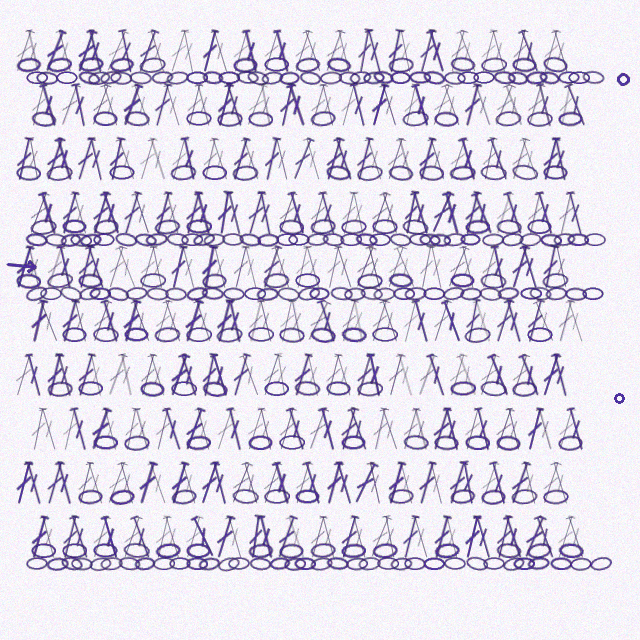chain: (511, 163, 539, 182), (46, 271, 74, 290), (542, 55, 569, 74), (526, 541, 553, 560), (356, 164, 384, 182), (46, 56, 73, 74), (139, 56, 166, 74), (46, 164, 73, 182), (325, 164, 352, 182), (30, 218, 57, 236), (154, 218, 181, 236), (402, 218, 429, 236), (216, 326, 243, 344), (464, 326, 491, 344), (24, 284, 49, 303), (109, 56, 135, 74), (295, 56, 321, 74), (326, 56, 352, 74), (31, 110, 57, 128), (388, 164, 414, 182), (93, 218, 119, 236), (310, 326, 336, 344), (202, 380, 228, 398), (109, 488, 135, 506), (171, 488, 197, 506), (402, 110, 429, 127), (495, 110, 522, 127), (170, 164, 197, 181), (480, 164, 507, 181), (263, 272, 290, 289), (542, 272, 569, 289), (154, 326, 181, 343), (294, 380, 321, 397), (480, 380, 507, 397), (232, 488, 259, 505), (511, 488, 538, 505), (123, 542, 150, 559), (59, 284, 83, 303), (78, 56, 104, 73), (450, 56, 476, 73), (124, 110, 150, 127), (310, 110, 336, 127), (310, 218, 336, 235), (388, 272, 414, 289), (341, 326, 367, 343), (403, 434, 429, 451), (388, 488, 414, 505), (450, 488, 476, 505), (155, 542, 181, 559), (310, 542, 336, 559), (372, 542, 398, 559), (434, 542, 460, 559), (496, 542, 522, 559), (558, 542, 584, 559), (77, 69, 101, 87), (246, 69, 270, 87), (232, 165, 259, 181), (449, 165, 476, 181), (480, 273, 507, 289), (106, 285, 130, 303), (217, 555, 241, 573), (502, 555, 526, 573), (16, 57, 42, 73), (388, 57, 414, 73), (481, 57, 507, 73), (217, 111, 243, 127), (527, 111, 553, 127), (341, 219, 367, 235), (496, 219, 522, 235), (357, 273, 383, 289), (279, 327, 305, 343), (47, 381, 73, 397), (357, 381, 383, 397), (124, 435, 150, 451), (543, 489, 569, 505), (248, 543, 274, 559), (99, 69, 123, 86), (422, 69, 446, 86), (114, 231, 138, 248), (192, 231, 216, 248), (78, 285, 102, 302), (185, 285, 209, 302), (297, 285, 321, 302), (442, 285, 466, 302), (60, 555, 84, 572), (465, 555, 489, 572), (589, 555, 613, 572), (233, 57, 258, 73), (512, 57, 537, 73), (248, 111, 273, 127), (434, 111, 459, 127), (558, 111, 583, 127), (16, 165, 41, 181), (419, 165, 444, 181), (279, 219, 304, 235), (465, 219, 490, 235), (16, 273, 41, 289), (78, 273, 103, 289), (202, 273, 227, 289), (140, 381, 165, 397), (512, 381, 537, 397), (186, 435, 211, 451), (434, 435, 459, 451), (496, 435, 521, 451), (558, 435, 583, 451), (78, 489, 103, 505), (481, 489, 506, 505), (279, 543, 304, 559), (341, 543, 366, 559), (372, 69, 395, 86), (186, 111, 212, 126), (109, 165, 135, 180), (186, 219, 212, 234), (372, 219, 398, 234), (140, 273, 166, 288), (93, 327, 119, 342), (186, 327, 212, 342), (248, 327, 274, 342), (372, 327, 398, 342), (527, 327, 553, 342), (171, 381, 197, 396), (450, 381, 476, 396), (279, 435, 305, 450), (264, 489, 290, 504), (87, 70, 111, 86), (238, 232, 262, 248), (264, 57, 289, 72), (93, 111, 118, 126), (202, 165, 227, 180), (543, 165, 568, 180), (62, 219, 87, 234), (527, 219, 552, 234), (295, 273, 320, 288), (450, 273, 475, 288), (62, 327, 87, 342), (124, 327, 149, 342), (78, 381, 103, 396), (264, 381, 289, 396), (326, 381, 351, 396), (93, 435, 118, 450), (248, 435, 273, 450), (341, 435, 366, 450), (465, 435, 490, 450), (295, 489, 320, 504), (31, 543, 56, 558), (62, 543, 87, 558), (93, 543, 118, 558), (186, 543, 211, 558), (166, 70, 189, 86), (261, 70, 284, 86), (299, 70, 322, 86), (538, 70, 561, 86), (79, 232, 102, 248), (134, 232, 157, 248), (203, 232, 226, 248), (389, 232, 412, 248), (277, 286, 300, 302), (479, 286, 502, 302), (89, 556, 112, 572), (198, 556, 221, 572), (310, 556, 333, 572), (507, 70, 529, 86), (60, 232, 82, 248), (151, 70, 174, 85), (236, 70, 259, 85), (349, 70, 372, 85), (493, 70, 516, 85), (525, 70, 548, 85), (582, 70, 605, 85), (25, 232, 48, 247), (145, 232, 168, 247), (166, 232, 189, 247), (306, 232, 329, 247), (322, 232, 345, 247), (355, 232, 378, 247), (443, 232, 466, 247), (501, 232, 524, 247), (519, 232, 542, 247), (553, 232, 576, 247), (125, 286, 148, 301), (201, 286, 224, 301), (330, 286, 353, 301), (360, 286, 383, 301), (404, 286, 427, 301), (497, 286, 520, 301), (529, 286, 552, 301), (545, 286, 568, 301), (100, 556, 123, 571), (118, 556, 141, 571), (326, 556, 349, 571), (358, 556, 381, 571), (527, 556, 550, 571), (202, 70, 224, 85), (134, 556, 156, 571), (269, 556, 291, 571), (129, 71, 152, 85), (338, 71, 361, 85), (146, 287, 169, 301), (256, 287, 279, 301), (373, 287, 396, 301), (46, 557, 69, 571), (249, 557, 272, 571), (390, 557, 413, 571), (36, 71, 58, 85), (110, 71, 132, 85), (320, 71, 342, 85), (363, 71, 385, 85), (444, 71, 466, 85), (45, 233, 67, 247), (70, 233, 92, 247), (257, 233, 279, 247), (419, 233, 441, 247), (429, 233, 451, 247), (482, 233, 504, 247), (540, 233, 562, 247), (165, 287, 187, 301), (223, 287, 245, 301), (344, 287, 366, 301), (460, 287, 482, 301), (565, 287, 587, 301), (71, 557, 93, 571), (284, 557, 306, 571), (346, 557, 368, 571), (570, 557, 592, 571), (279, 71, 300, 85), (26, 71, 48, 84), (56, 71, 78, 84), (186, 71, 208, 84), (218, 71, 240, 84), (409, 71, 431, 84), (457, 71, 479, 84), (473, 71, 495, 84), (558, 71, 580, 84), (568, 71, 590, 84), (93, 233, 115, 246), (181, 233, 203, 246), (222, 233, 244, 246), (276, 233, 298, 246), (288, 233, 310, 246), (340, 233, 362, 246), (369, 233, 391, 246), (409, 233, 431, 246), (567, 233, 589, 246), (584, 233, 606, 246), (40, 287, 62, 300), (89, 287, 111, 300), (244, 287, 266, 300), (393, 287, 415, 300), (423, 287, 445, 300), (520, 287, 542, 300), (582, 287, 604, 300), (26, 557, 48, 570), (153, 557, 175, 570), (169, 557, 191, 570), (186, 557, 208, 570), (228, 557, 250, 570), (294, 557, 316, 570), (377, 557, 399, 570), (404, 557, 426, 570), (423, 557, 445, 570), (444, 557, 466, 570), (483, 557, 505, 570), (513, 557, 535, 570), (550, 557, 572, 570), (390, 71, 411, 84), (460, 233, 481, 246), (309, 287, 330, 300)
double: (302, 298, 334, 344), (349, 460, 381, 506), (101, 28, 132, 74), (390, 244, 421, 290), (442, 244, 473, 290), (529, 298, 560, 344), (519, 514, 550, 560), (188, 514, 219, 559), (40, 28, 70, 74), (241, 82, 271, 128), (489, 82, 519, 128), (561, 82, 591, 128), (468, 190, 498, 236), (350, 244, 380, 290), (34, 298, 64, 344), (484, 352, 514, 398), (515, 352, 545, 398), (226, 460, 256, 506), (365, 514, 395, 560), (427, 190, 457, 235), (133, 28, 162, 74), (453, 28, 482, 74), (515, 28, 544, 74), (55, 82, 84, 128), (86, 82, 115, 128), (427, 82, 456, 128), (112, 136, 141, 182), (288, 136, 317, 182), (484, 136, 513, 182), (24, 190, 53, 236), (112, 244, 141, 290), (127, 298, 156, 344), (236, 352, 265, 398), (453, 352, 482, 398), (474, 352, 503, 398), (86, 406, 115, 452), (303, 406, 332, 452), (344, 406, 373, 452), (102, 460, 131, 506), (127, 514, 156, 560), (272, 514, 301, 560), (10, 28, 38, 74), (72, 28, 100, 74), (299, 28, 327, 74), (320, 28, 348, 74), (118, 82, 146, 128), (128, 82, 156, 128), (283, 82, 311, 128), (438, 82, 466, 128), (469, 82, 497, 128), (500, 82, 528, 128), (41, 136, 69, 182), (206, 136, 234, 182), (237, 136, 265, 182), (330, 136, 358, 182), (444, 136, 472, 182), (516, 136, 544, 182), (97, 190, 125, 236), (128, 190, 156, 236), (273, 190, 301, 236), (366, 190, 394, 236), (376, 190, 404, 236), (500, 190, 528, 236), (82, 244, 110, 290), (268, 244, 296, 290), (382, 244, 410, 290), (87, 298, 115, 344), (159, 298, 187, 344), (376, 298, 404, 344), (438, 298, 466, 344), (103, 352, 131, 398), (165, 352, 193, 398), (175, 352, 203, 398), (413, 352, 441, 398), (159, 406, 187, 452), (180, 406, 208, 452), (211, 406, 239, 452), (376, 406, 404, 452), (490, 406, 518, 452), (144, 460, 172, 506), (475, 460, 503, 506), (506, 460, 534, 506), (537, 460, 565, 506), (66, 514, 94, 560), (118, 514, 146, 560), (531, 514, 559, 560), (562, 514, 590, 560), (144, 28, 171, 74), (165, 28, 192, 74), (258, 28, 285, 74), (289, 28, 316, 74), (423, 28, 450, 74), (97, 82, 124, 128), (221, 82, 248, 128), (376, 82, 403, 128), (51, 136, 78, 182), (72, 136, 99, 182), (134, 136, 161, 182), (361, 136, 388, 182), (382, 136, 409, 182), (506, 136, 533, 182), (35, 190, 62, 236), (87, 190, 114, 236), (407, 190, 434, 236), (103, 244, 130, 290), (258, 244, 285, 290), (506, 244, 533, 290), (516, 244, 543, 290), (97, 298, 124, 344), (180, 298, 207, 344), (190, 298, 217, 344), (314, 298, 341, 344), (366, 298, 393, 344), (428, 298, 455, 344), (562, 298, 589, 344), (10, 352, 37, 398), (144, 352, 171, 398), (258, 352, 285, 398), (289, 352, 316, 398), (423, 352, 450, 398), (444, 352, 471, 398), (506, 352, 533, 398), (242, 406, 269, 452), (283, 406, 310, 452), (397, 406, 424, 452), (428, 406, 455, 452), (82, 460, 109, 506), (134, 460, 161, 506), (196, 460, 223, 506), (258, 460, 285, 506), (299, 460, 326, 506), (444, 460, 471, 506), (547, 460, 574, 506), (87, 514, 114, 560), (159, 514, 186, 560), (180, 514, 207, 560), (211, 514, 238, 560), (283, 514, 310, 560), (500, 514, 527, 560), (552, 514, 579, 560), (52, 28, 78, 74), (207, 28, 233, 74), (228, 28, 254, 74), (445, 28, 471, 74), (486, 28, 512, 74), (538, 28, 564, 74), (548, 28, 574, 74), (36, 82, 62, 128), (160, 82, 186, 128), (305, 82, 331, 128), (408, 82, 434, 128), (522, 82, 548, 128), (145, 136, 171, 182), (166, 136, 192, 182), (321, 136, 347, 182), (414, 136, 440, 182), (424, 136, 450, 182), (455, 136, 481, 182), (67, 190, 93, 236), (119, 190, 145, 236), (243, 190, 269, 236), (284, 190, 310, 236), (305, 190, 331, 236), (315, 190, 341, 236), (439, 190, 465, 236), (491, 190, 517, 236), (532, 190, 558, 236), (11, 244, 37, 290), (42, 244, 68, 290), (135, 244, 161, 290), (300, 244, 326, 290), (331, 244, 357, 290), (476, 244, 502, 290), (57, 298, 83, 344), (150, 298, 176, 344), (336, 298, 362, 344), (408, 298, 434, 344), (470, 298, 496, 344), (491, 298, 517, 344), (501, 298, 527, 344), (522, 298, 548, 344), (73, 352, 99, 398), (135, 352, 161, 398), (207, 352, 233, 398), (228, 352, 254, 398), (331, 352, 357, 398), (383, 352, 409, 398), (538, 352, 564, 398), (36, 406, 62, 452), (129, 406, 155, 452), (274, 406, 300, 452), (336, 406, 362, 452), (532, 406, 558, 452), (553, 406, 579, 452), (563, 406, 589, 452), (21, 460, 47, 506), (42, 460, 68, 506), (114, 460, 140, 506), (166, 460, 192, 506), (176, 460, 202, 506), (238, 460, 264, 506), (269, 460, 295, 506), (290, 460, 316, 506), (331, 460, 357, 506), (383, 460, 409, 506), (414, 460, 440, 506), (26, 514, 52, 560), (222, 514, 248, 560), (305, 514, 331, 560), (336, 514, 362, 560), (408, 514, 434, 560), (429, 514, 455, 560), (470, 514, 496, 560), (83, 28, 108, 74), (362, 28, 387, 74), (476, 28, 501, 74), (26, 82, 51, 128), (150, 82, 175, 128), (191, 82, 216, 128), (336, 82, 361, 128), (346, 82, 371, 128), (367, 82, 392, 128), (460, 82, 485, 128), (228, 136, 253, 182), (300, 136, 325, 182), (352, 136, 377, 182), (393, 136, 418, 182), (538, 136, 563, 182), (57, 190, 82, 236), (160, 190, 185, 236), (181, 190, 206, 236), (191, 190, 216, 236), (460, 190, 485, 236), (563, 190, 588, 236), (176, 244, 201, 290), (362, 244, 387, 290), (119, 298, 144, 344), (212, 298, 237, 344), (398, 298, 423, 344), (553, 298, 578, 344), (52, 352, 77, 398), (321, 352, 346, 398), (352, 352, 377, 398), (393, 352, 418, 398), (548, 352, 573, 398), (67, 406, 92, 452), (98, 406, 123, 452), (191, 406, 216, 452), (315, 406, 340, 452), (460, 406, 485, 452), (52, 460, 77, 506), (73, 460, 98, 506), (207, 460, 232, 506), (424, 460, 449, 506), (486, 460, 511, 506), (36, 514, 61, 560), (98, 514, 123, 560), (398, 514, 423, 560), (198, 28, 222, 74), (239, 28, 263, 74), (270, 28, 294, 74), (415, 28, 439, 74), (508, 28, 532, 74), (182, 82, 206, 128), (213, 82, 237, 128), (275, 82, 299, 128), (399, 82, 423, 128), (533, 82, 557, 128), (12, 136, 36, 182), (84, 136, 108, 182), (198, 136, 222, 182), (260, 136, 284, 182), (270, 136, 294, 182), (151, 190, 175, 236), (337, 190, 361, 236), (523, 190, 547, 236), (554, 190, 578, 236), (22, 244, 46, 290), (53, 244, 77, 290), (74, 244, 98, 290), (208, 244, 232, 290), (229, 244, 253, 290), (322, 244, 346, 290), (456, 244, 480, 290), (27, 298, 51, 344), (68, 298, 92, 344), (223, 298, 247, 344), (244, 298, 268, 344), (275, 298, 299, 344), (22, 352, 46, 398), (43, 352, 67, 398), (84, 352, 108, 398), (301, 352, 325, 398), (58, 406, 82, 452), (223, 406, 247, 452), (368, 406, 392, 452), (409, 406, 433, 452), (440, 406, 464, 452), (471, 406, 495, 452), (523, 406, 547, 452), (12, 460, 36, 506), (322, 460, 346, 506), (363, 460, 387, 506), (394, 460, 418, 506), (518, 460, 542, 506), (58, 514, 82, 560), (151, 514, 175, 560), (254, 514, 278, 560), (316, 514, 340, 560), (347, 514, 371, 560), (440, 514, 464, 560), (492, 514, 516, 560), (115, 28, 138, 74), (177, 28, 200, 74), (332, 28, 355, 74), (384, 28, 407, 74), (394, 28, 417, 74), (68, 82, 91, 128), (316, 82, 339, 128), (105, 136, 128, 182), (549, 136, 572, 182), (223, 190, 246, 236), (254, 190, 277, 236), (347, 190, 370, 236), (146, 244, 169, 290), (167, 244, 190, 290), (198, 244, 221, 290), (239, 244, 262, 290), (291, 244, 314, 290), (415, 244, 438, 290), (425, 244, 448, 290), (487, 244, 510, 290), (539, 244, 562, 290), (254, 298, 277, 344), (285, 298, 308, 344), (198, 352, 221, 398), (363, 352, 386, 398), (27, 406, 50, 452), (120, 406, 143, 452), (151, 406, 174, 452), (254, 406, 277, 452), (502, 406, 525, 452), (461, 514, 484, 560), (22, 28, 45, 73), (115, 352, 138, 397), (255, 82, 277, 127), (555, 82, 577, 127), (178, 136, 200, 181), (478, 136, 500, 181), (400, 190, 422, 235), (550, 244, 572, 289), (462, 298, 484, 343), (457, 460, 479, 505), (379, 514, 401, 559), (354, 28, 375, 73), (23, 136, 44, 181), (214, 190, 235, 235), (348, 298, 369, 343), (271, 352, 292, 397), (245, 514, 266, 559)
noise: (5, 258, 39, 274), (615, 71, 631, 87), (613, 392, 626, 405)
